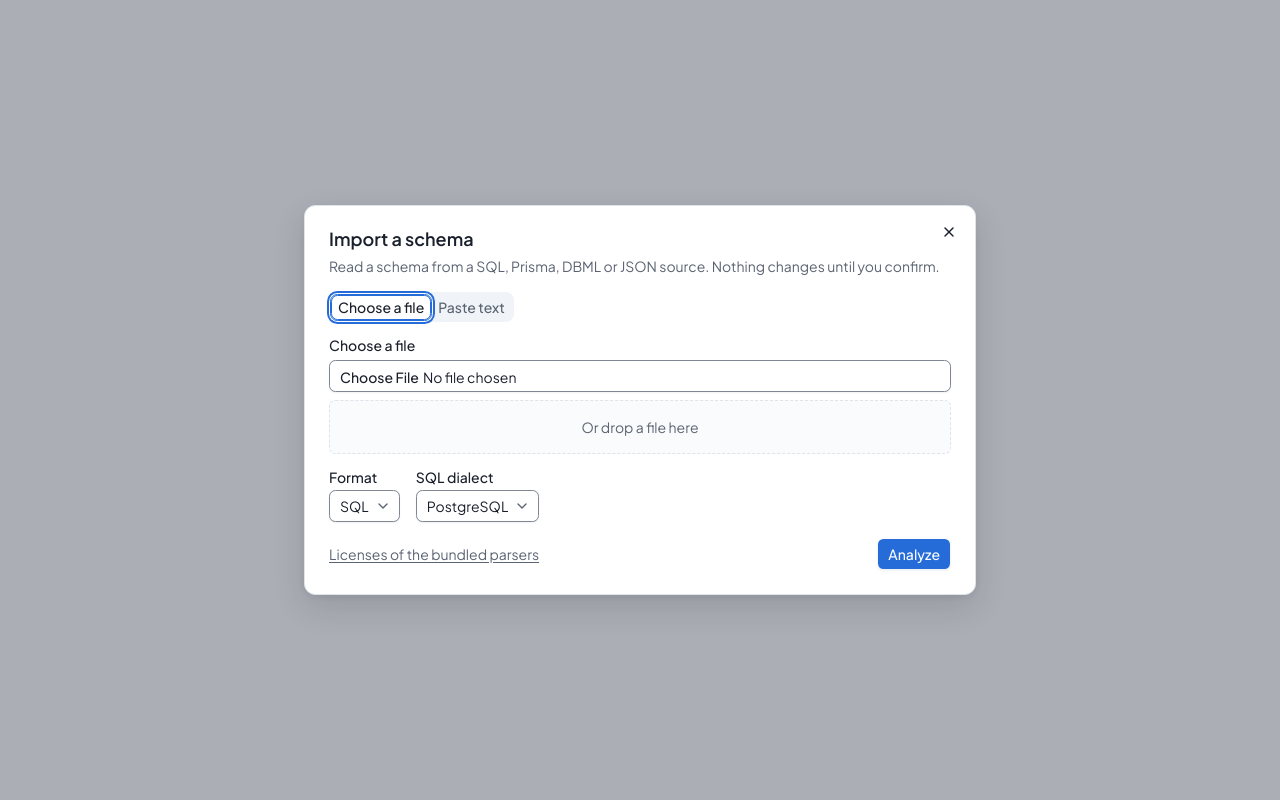
it: ImportDialog › announces source errors and clears them when the input changes
The image size is (1280, 800).
Click the tab "Paste text" at (472, 307), box [431, 294, 512, 320]
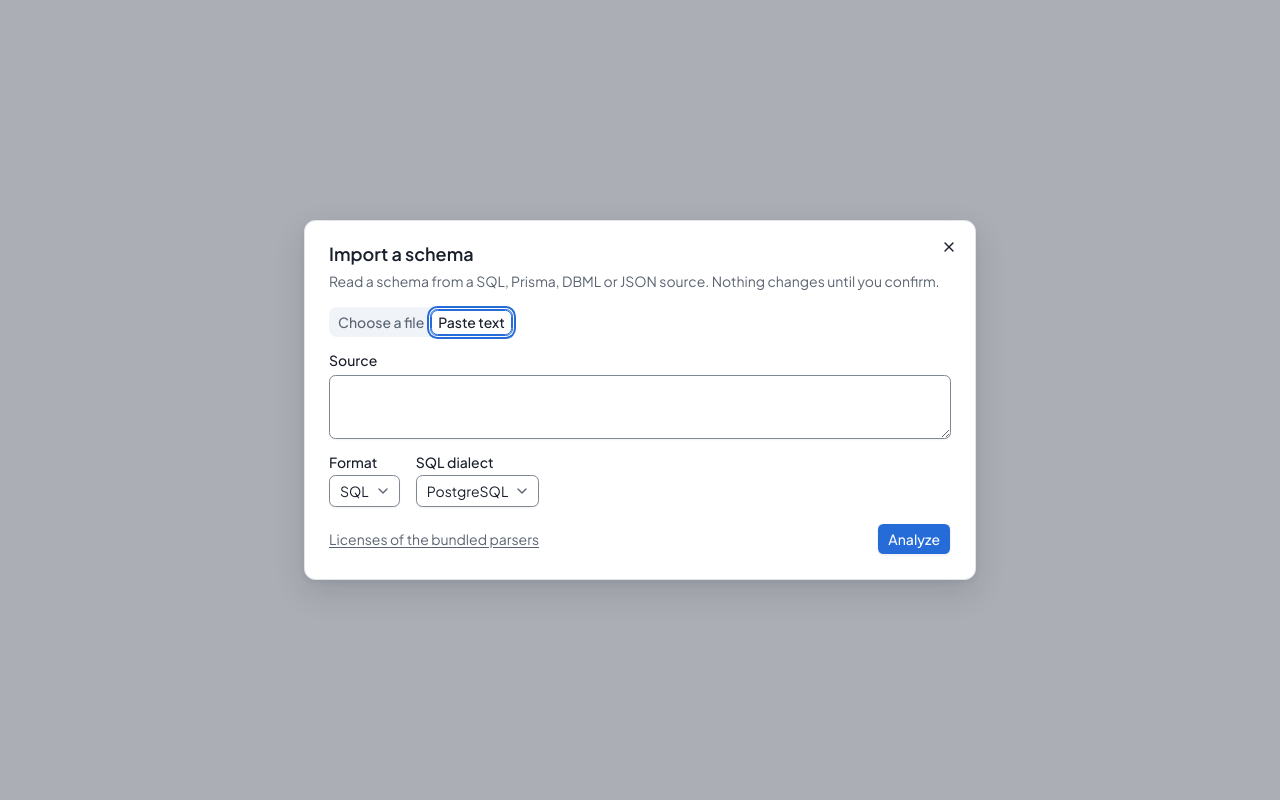
Click the button "Analyze" at (914, 539), box [877, 523, 951, 555]
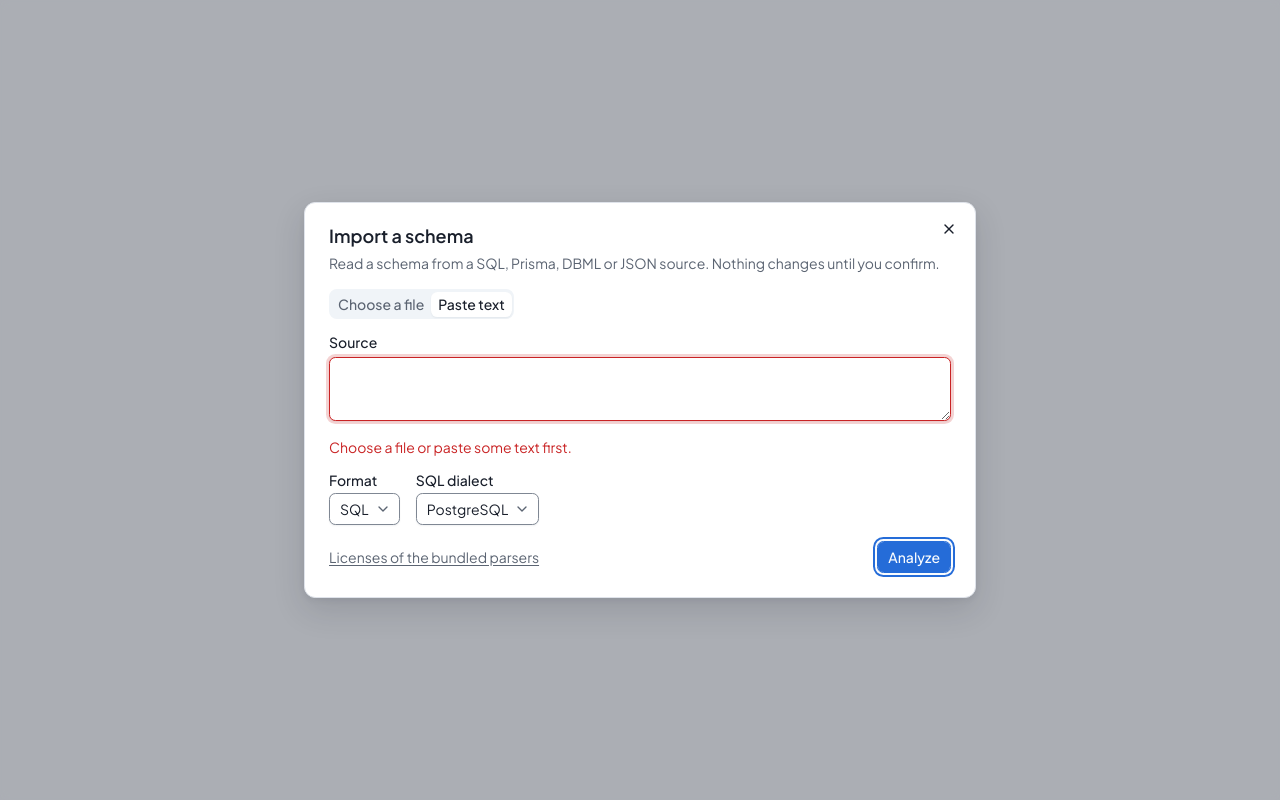
Check: the message reads "Choose a file or paste some text first.", box [329, 438, 572, 456]
Type "x" into the text box labelled "Source" at (640, 389), box [329, 357, 951, 421]
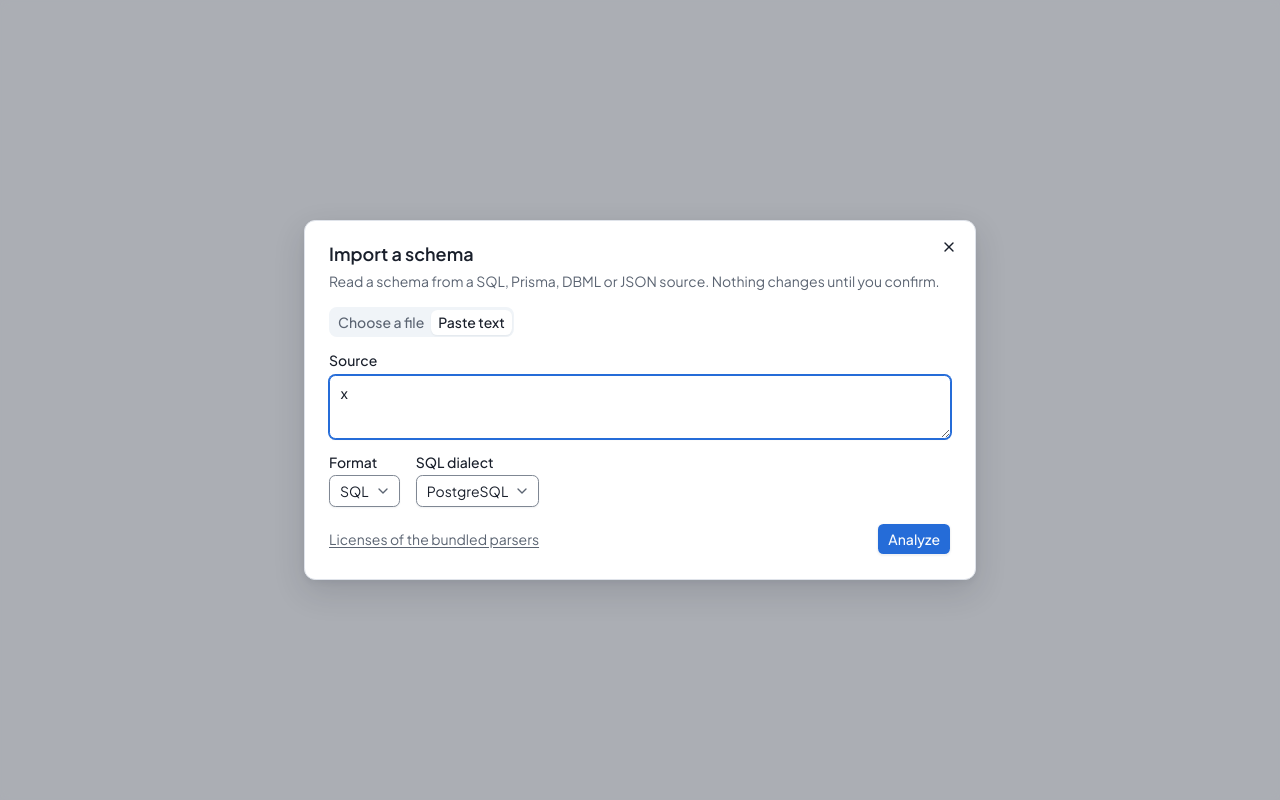
Check: the message "Choose a file or paste some text first." is gone
